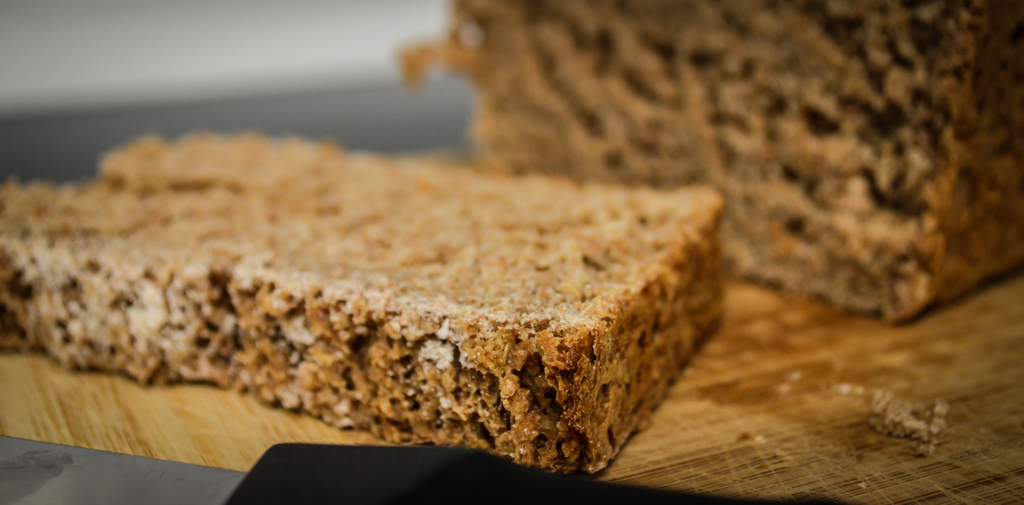slice of bread: (1, 140, 739, 474), (451, 1, 960, 321)
